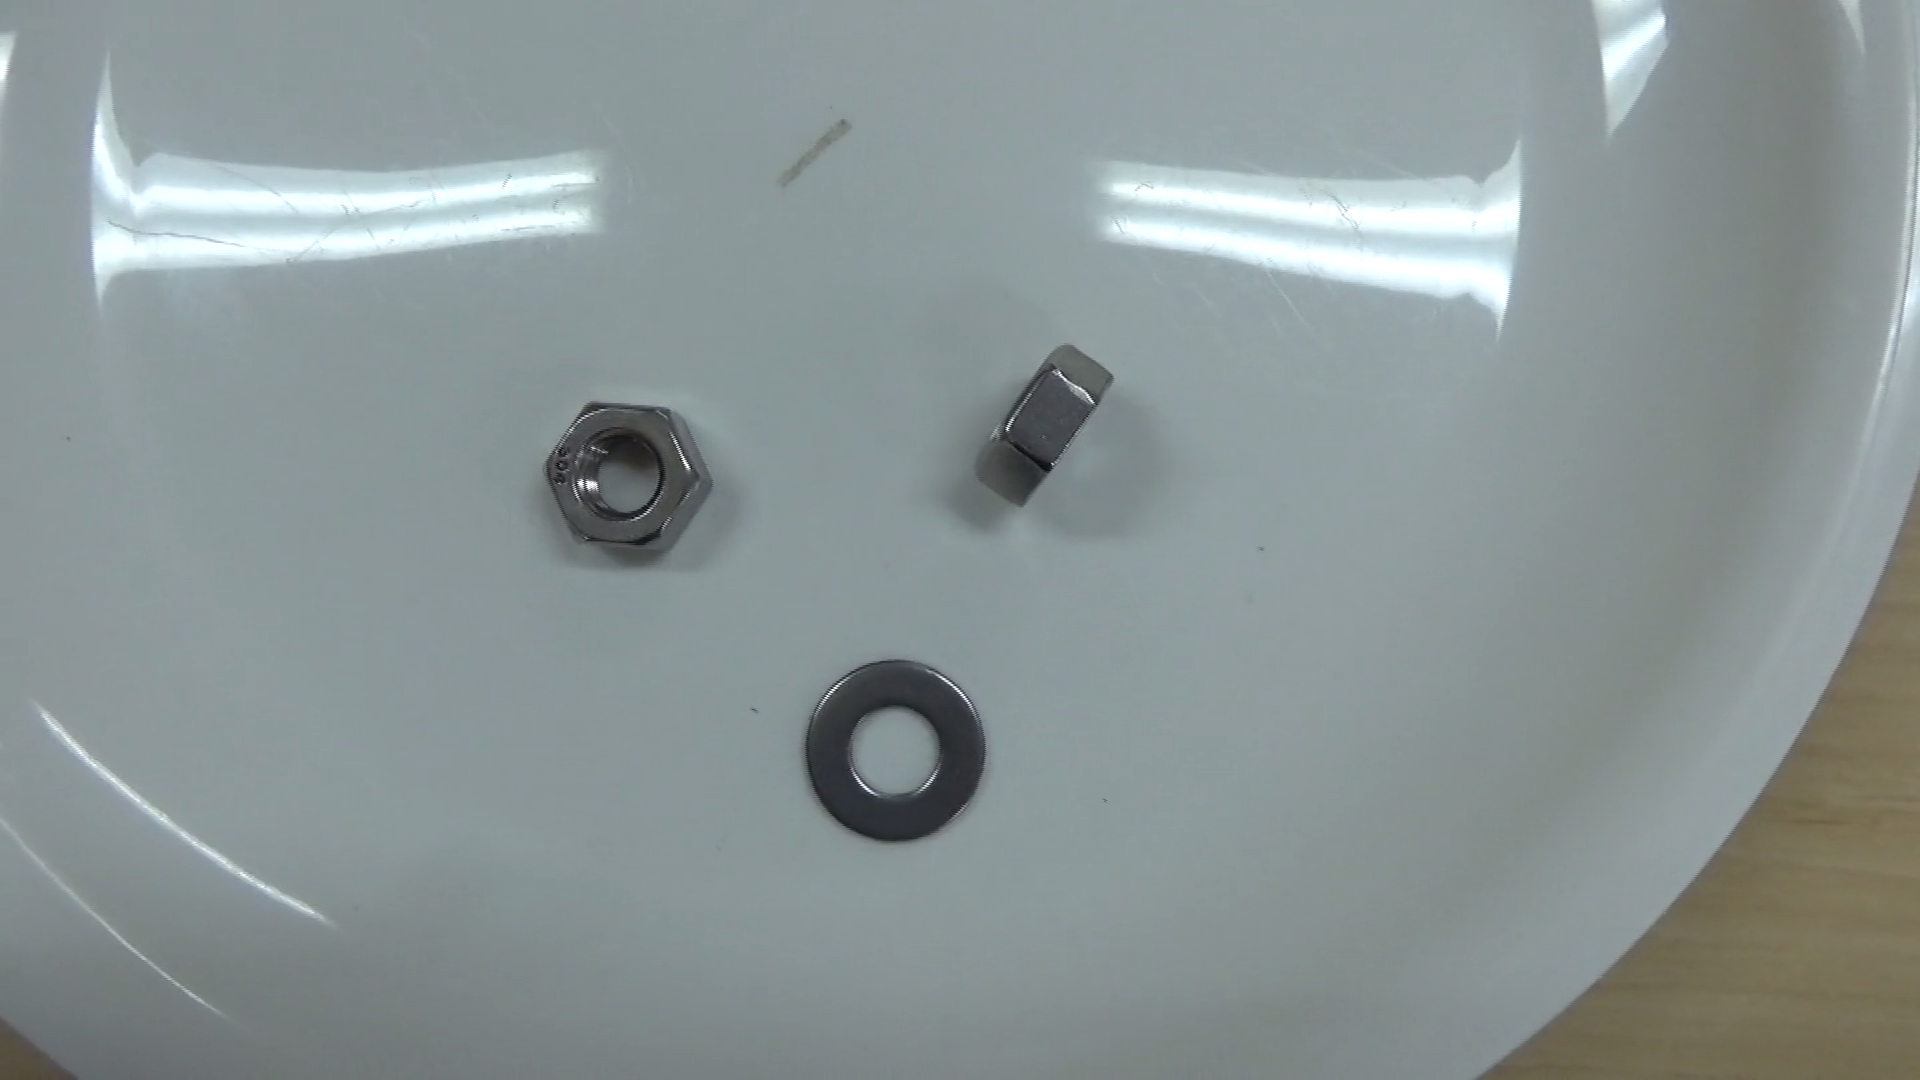nut: (535, 392, 723, 578), (963, 334, 1126, 520)
washer: (789, 653, 998, 855)
